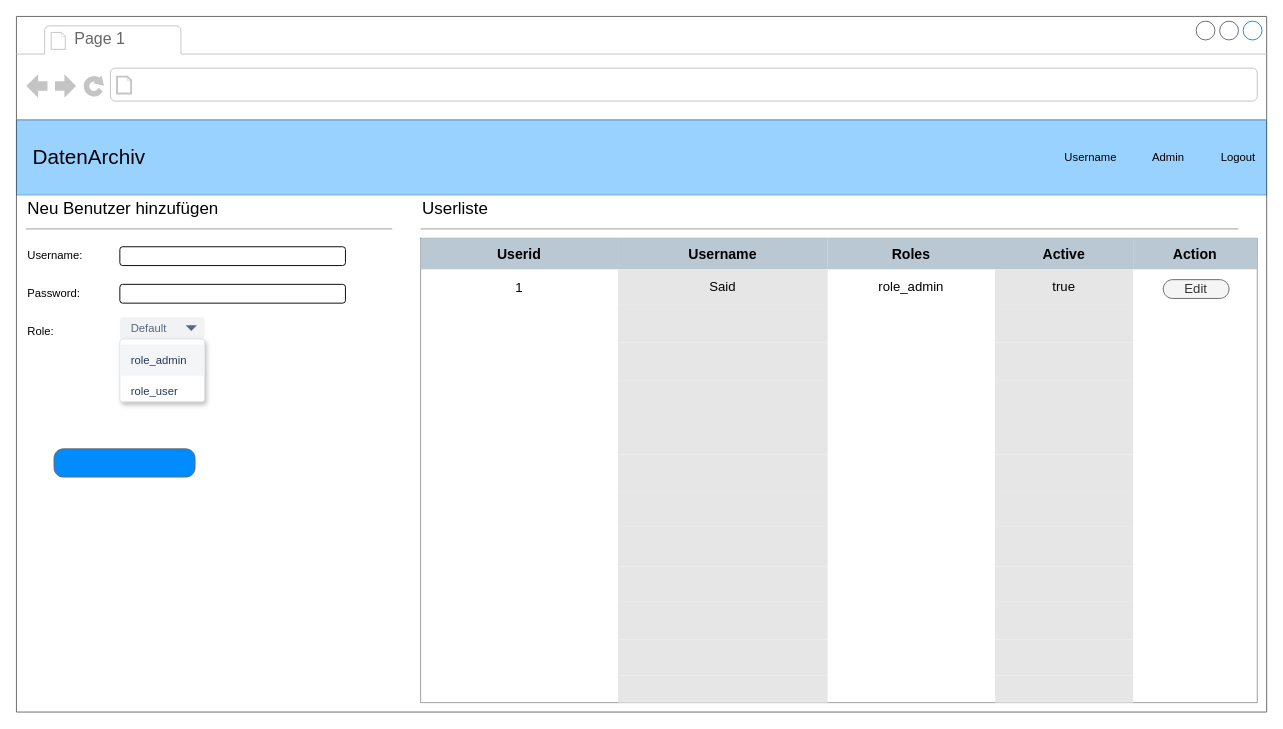
Some shapes in this 1283 by 729 pixel diagram are drawn without their labels. Each missing label, with the centre of its shape:
"https://www.draw.io" goes at point (256, 84).
"User hinzufügen" goes at point (124, 462).
